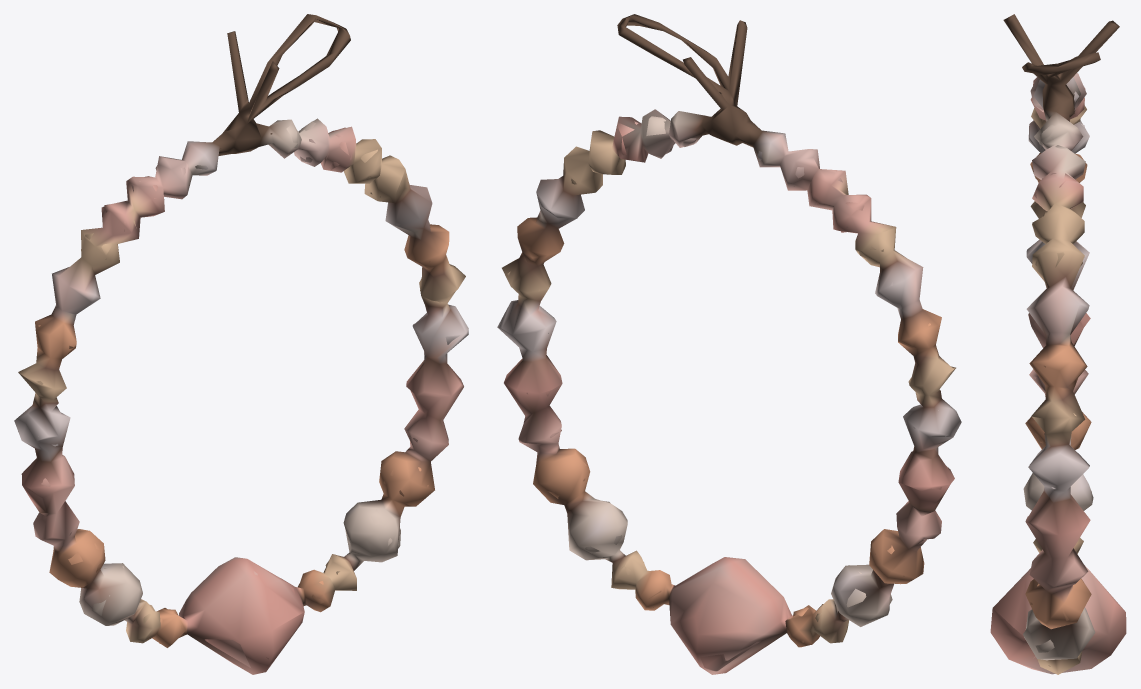
Rendered from gen3d-shell-necklace-lod1.glb.
3 renders of one model, left to right at view 1: azimuth 30°, elevation 25°; view 2: azimuth 150°, elevation 25°; view 3: azimuth 270°, elevation 25°, orthographic. The views are drawn at different scales.
Visible parts, largest first — view 1: part_0; view 2: part_0; view 3: part_0.
Boxes of the visible parts, <box> form: part_0: <box>14,14,468,674</box>; part_0: <box>497,14,961,674</box>; part_0: <box>990,14,1126,674</box>.
Bounding box in the file's own units: 0.7445 × 0.9984 × 0.185.
